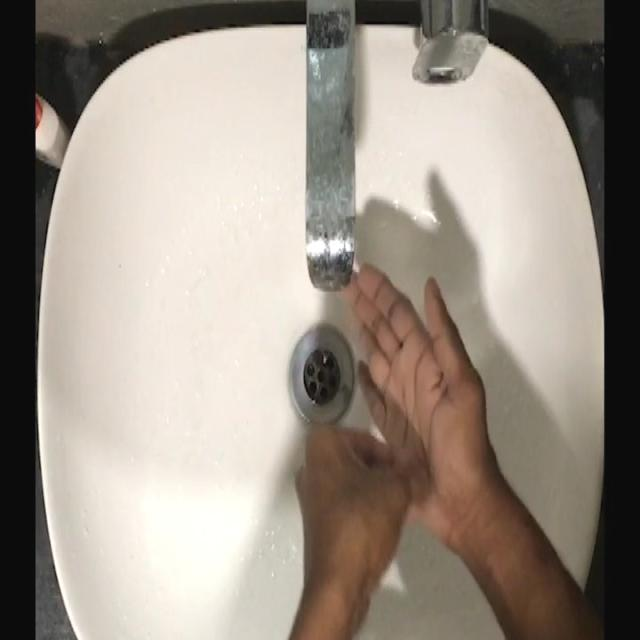step_6: (288, 256, 496, 582)
